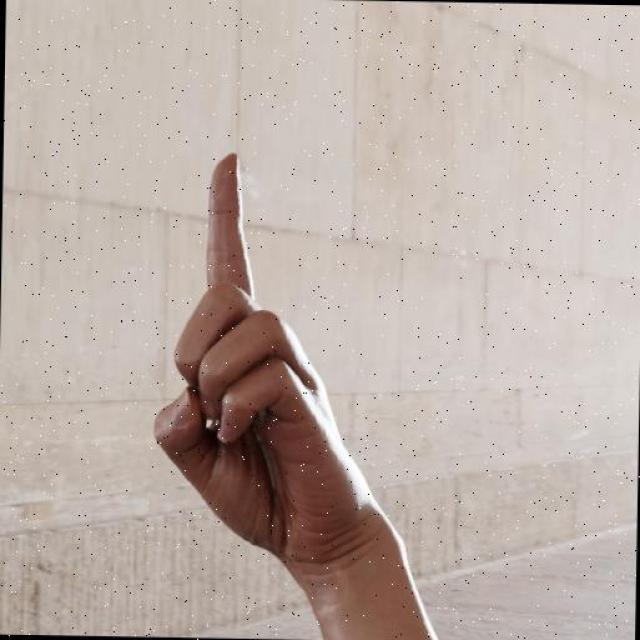D: (141, 146, 380, 582)
